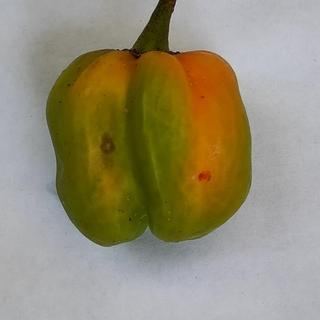Defect: (99, 130, 119, 158)
Fly-bites: (124, 211, 137, 231), (63, 79, 79, 91)
